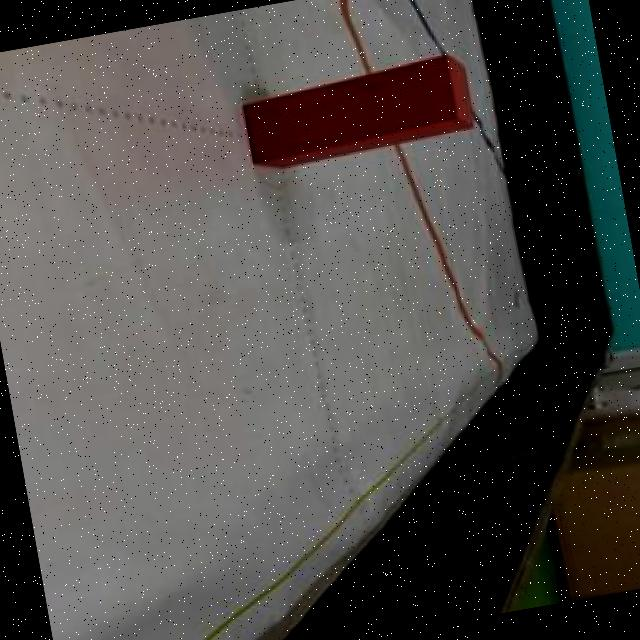redbox: (237, 52, 476, 172)
